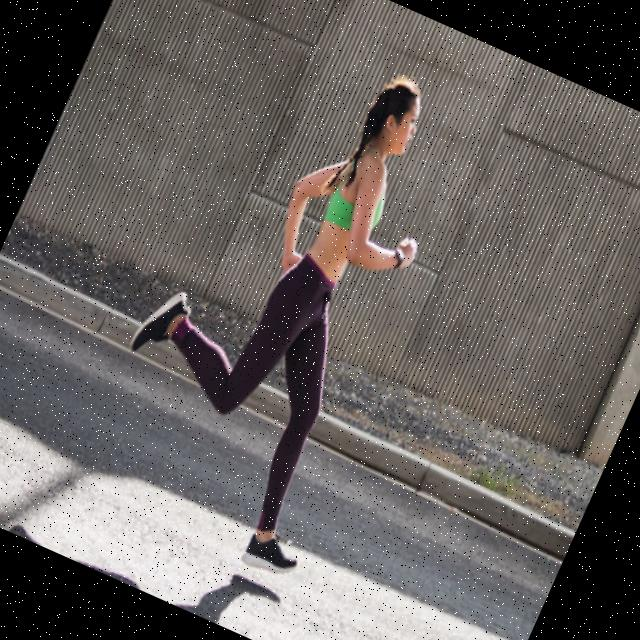Person: (68, 19, 496, 582)
